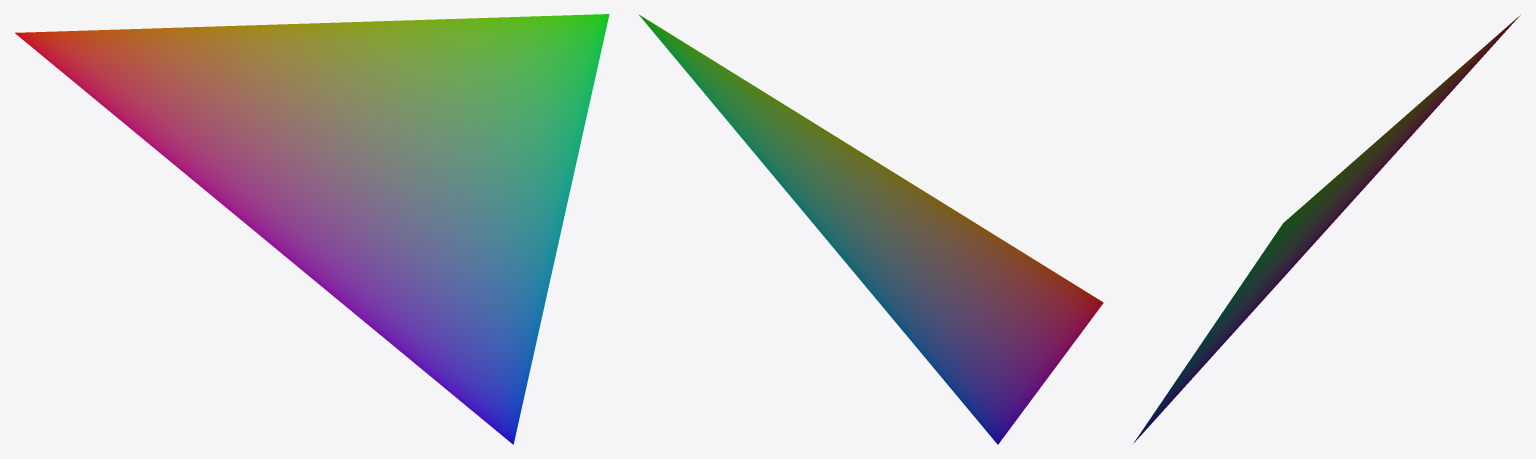
The model's file is face_cleaning_conquest_57.obj.
The picture shows the model from 3 angles, left to right: view 1: azimuth 30°, elevation 25°; view 2: azimuth 150°, elevation 25°; view 3: azimuth 270°, elevation 25°; orthographic projection. The views are drawn at different scales.
Size of the model in its own units: 0.7436 by 0.5 by 0.5846.
